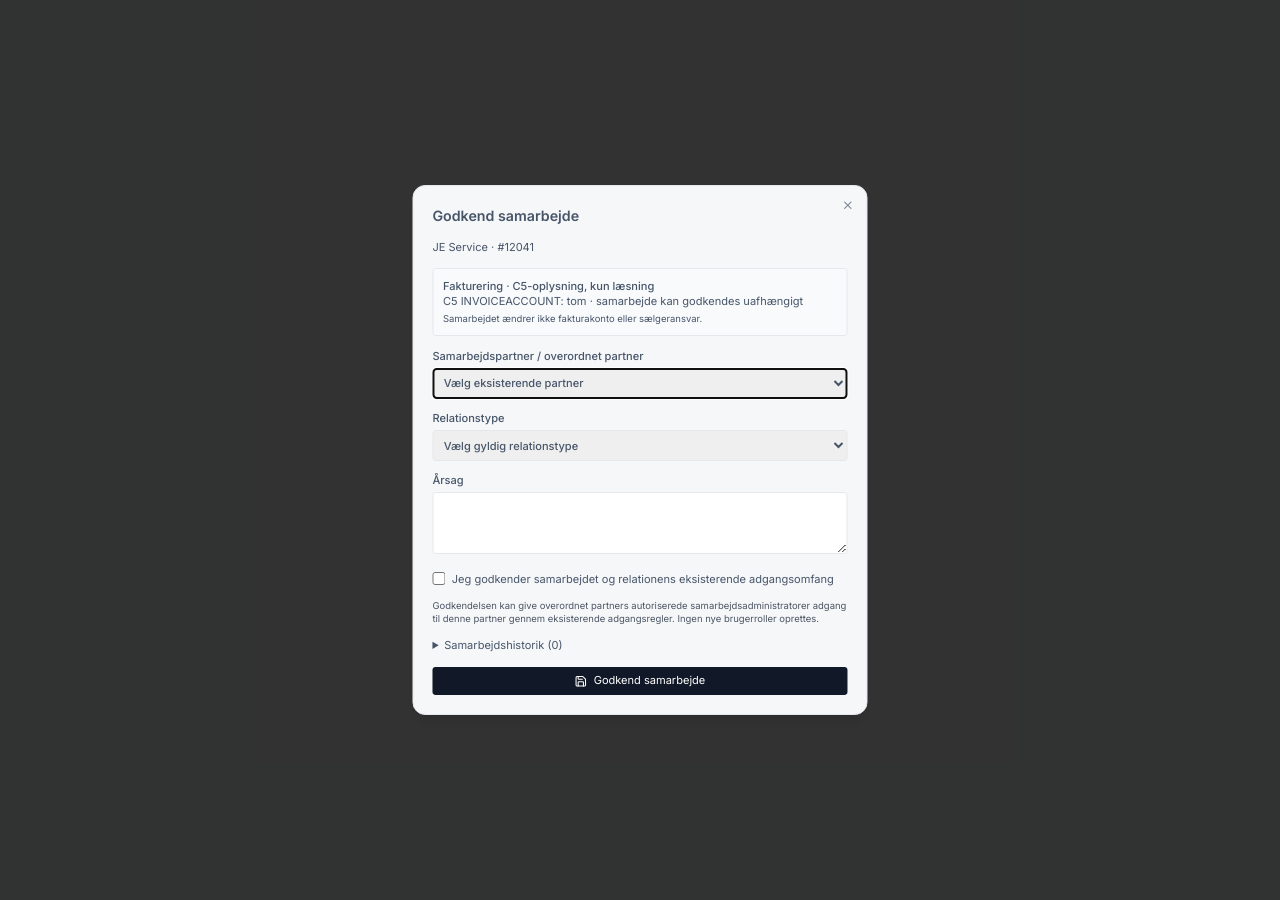
it: permanent Backend cooperation actions › reviews service_partner → dealer_customer independently of billing
Later steps or results of the test are not shown.
Expected: the text "C5 INVOICEACCOUNT: tom · samarbejde kan godkendes uafhængigt" is shown, x1=443 y1=294 x2=837 y2=310
Select "10295 · AB Lauridsen" in the dropdown labelled "Samarbejdspartner / overordnet partner": (640, 383) x1=432 y1=368 x2=848 y2=399
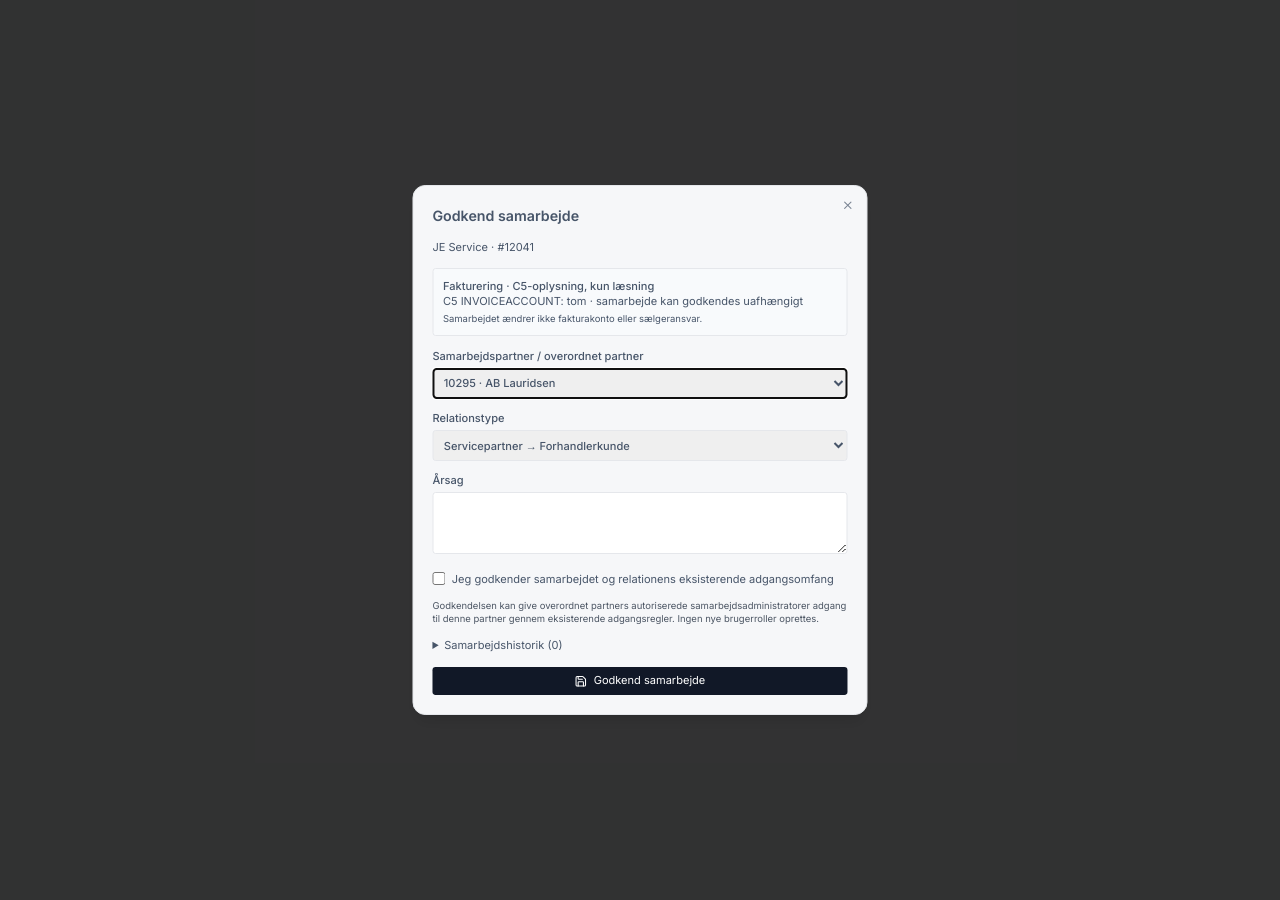
Now the dropdown labelled "Relationstype" shows "Servicepartner → Forhandlerkunde", box x1=432 y1=430 x2=848 y2=461
